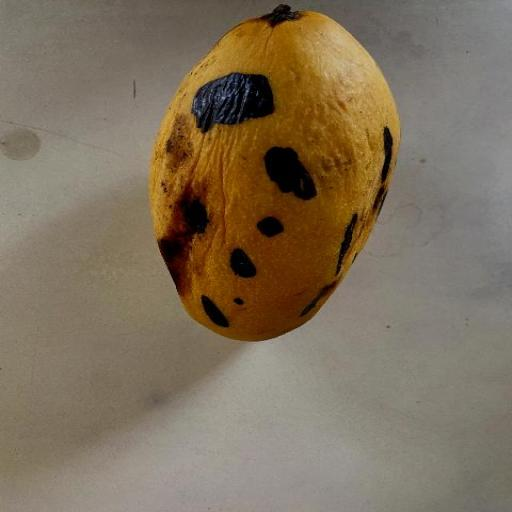mango-overripe: (118, 4, 415, 357)
